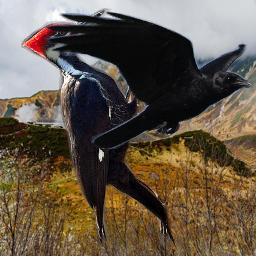Crow: (44, 9, 255, 149)
Woodpecker: (21, 8, 176, 247)
